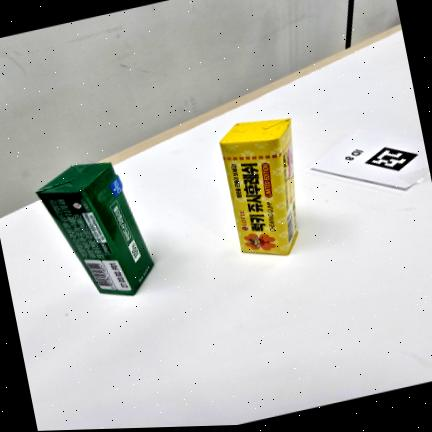gum_green: (36, 161, 154, 296)
gum_yellow: (219, 118, 298, 254)
